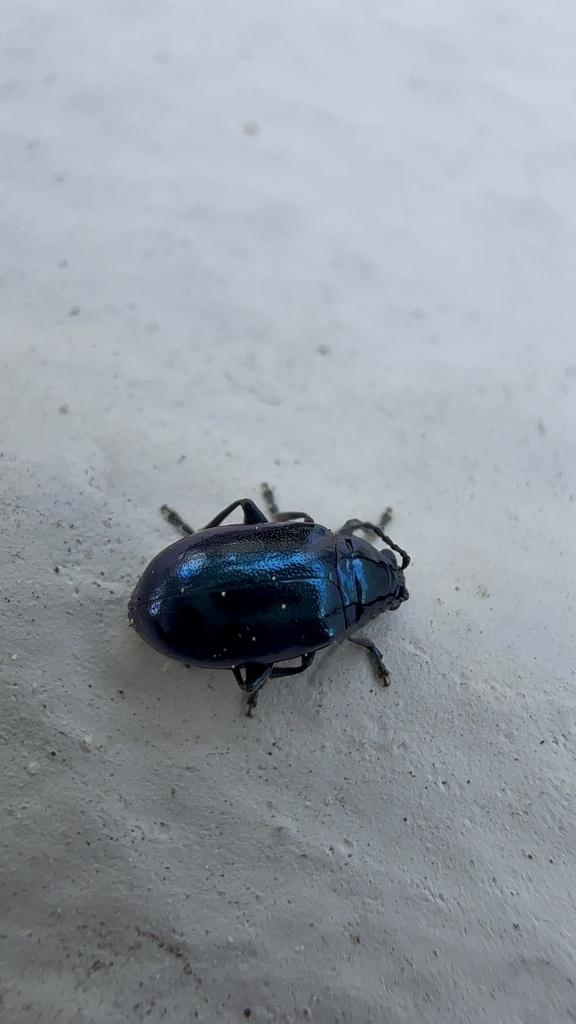flea_beetle: (93, 434, 484, 750)
